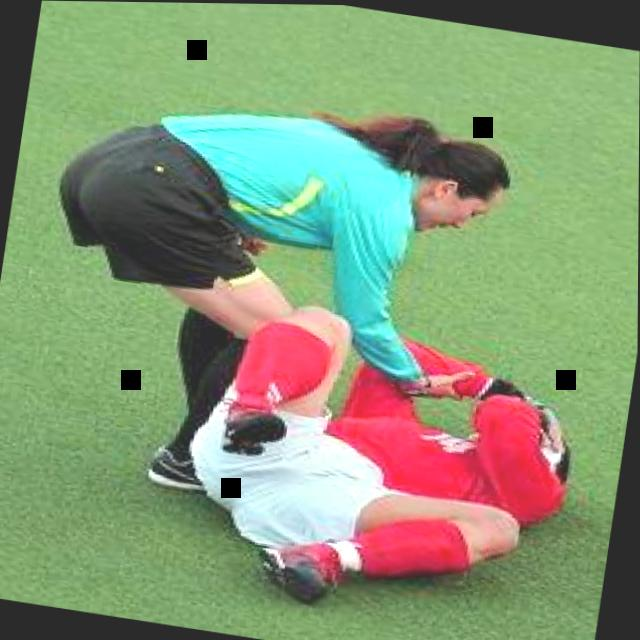Fall-Detected: (178, 274, 598, 640)
